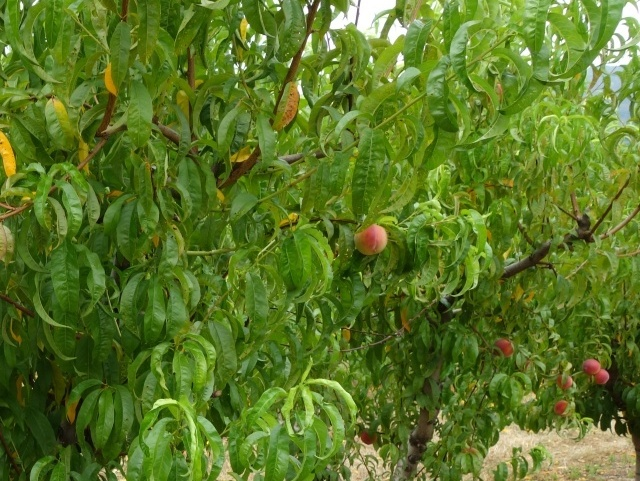peach: (352, 220, 393, 261), (490, 334, 516, 362), (577, 353, 604, 378), (358, 424, 383, 447), (551, 370, 575, 391), (550, 396, 571, 419), (592, 368, 614, 389)
